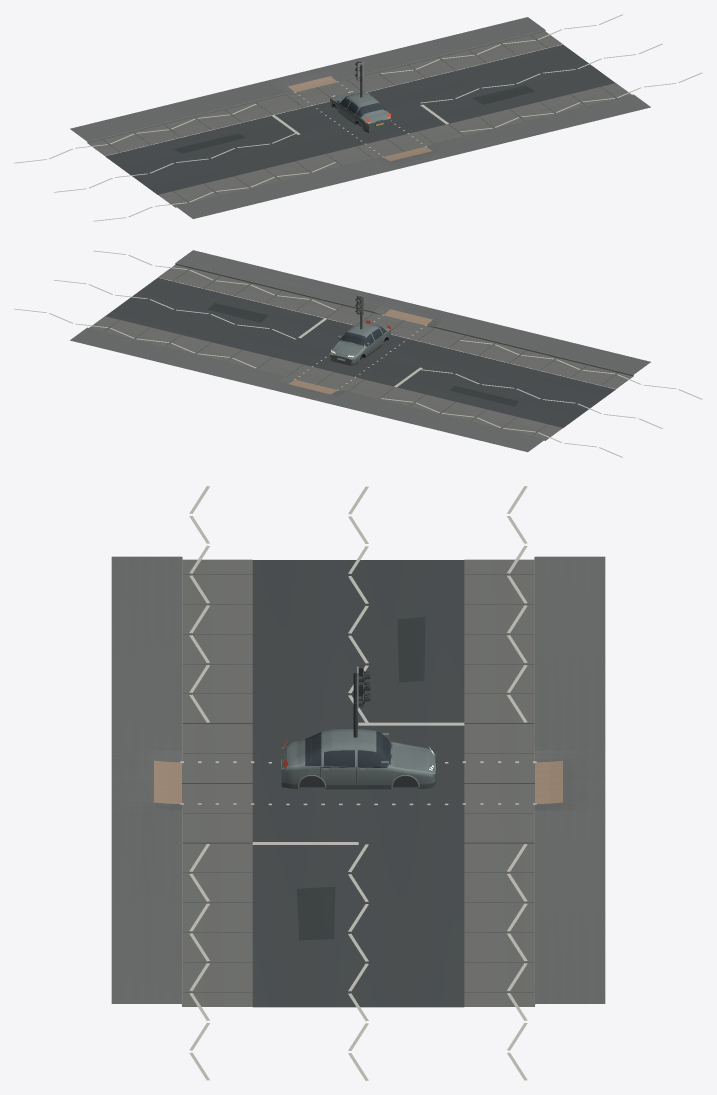
File: street-pilot.glb
3 renders of one model, top to bottom at view 1: azimuth 30°, elevation 25°; view 2: azimuth 150°, elevation 25°; view 3: azimuth 270°, elevation 25°, orthographic. The views are drawn at different scales.
Parts seen in each view (by area): view 1: street_pilot_ground, street_pilot_pavement, street_pilot_setts, street_pilot_markings, street_pilot_car_body, street_pilot_repairs, street_pilot_kerbs, street_pilot_tactile; view 2: street_pilot_ground, street_pilot_pavement, street_pilot_setts, street_pilot_markings, street_pilot_car_body, street_pilot_repairs, street_pilot_kerbs, street_pilot_tactile; view 3: street_pilot_ground, street_pilot_setts, street_pilot_pavement, street_pilot_car_body, street_pilot_markings, street_pilot_repairs, street_pilot_tactile.
Part boxes in pixels (box(x1,y1,x2,y2)): street_pilot_ground: box(105, 44, 615, 194); street_pilot_pavement: box(70, 17, 650, 218); street_pilot_setts: box(88, 31, 631, 207); street_pilot_markings: box(14, 14, 702, 221); street_pilot_car_body: box(330, 91, 390, 132); street_pilot_repairs: box(173, 85, 535, 153); street_pilot_kerbs: box(87, 30, 545, 207); street_pilot_tactile: box(288, 76, 432, 161); street_pilot_ground: box(105, 277, 615, 427); street_pilot_pavement: box(70, 250, 650, 452); street_pilot_setts: box(89, 264, 633, 440); street_pilot_markings: box(14, 250, 702, 457); street_pilot_car_body: box(330, 320, 390, 365); street_pilot_repairs: box(207, 303, 518, 406); street_pilot_kerbs: box(175, 263, 633, 440); street_pilot_tactile: box(288, 309, 432, 394); street_pilot_ground: box(252, 560, 464, 1007); street_pilot_setts: box(182, 559, 534, 1006); street_pilot_pavement: box(111, 556, 605, 1003); street_pilot_car_body: box(281, 729, 436, 789); street_pilot_markings: box(180, 486, 536, 1080); street_pilot_repairs: box(296, 616, 425, 940); street_pilot_tactile: box(154, 760, 562, 803).
Bounding box in the file's own units: 39.88 × 3.88 × 14.
Materials: 3 (3 with a texture image).
